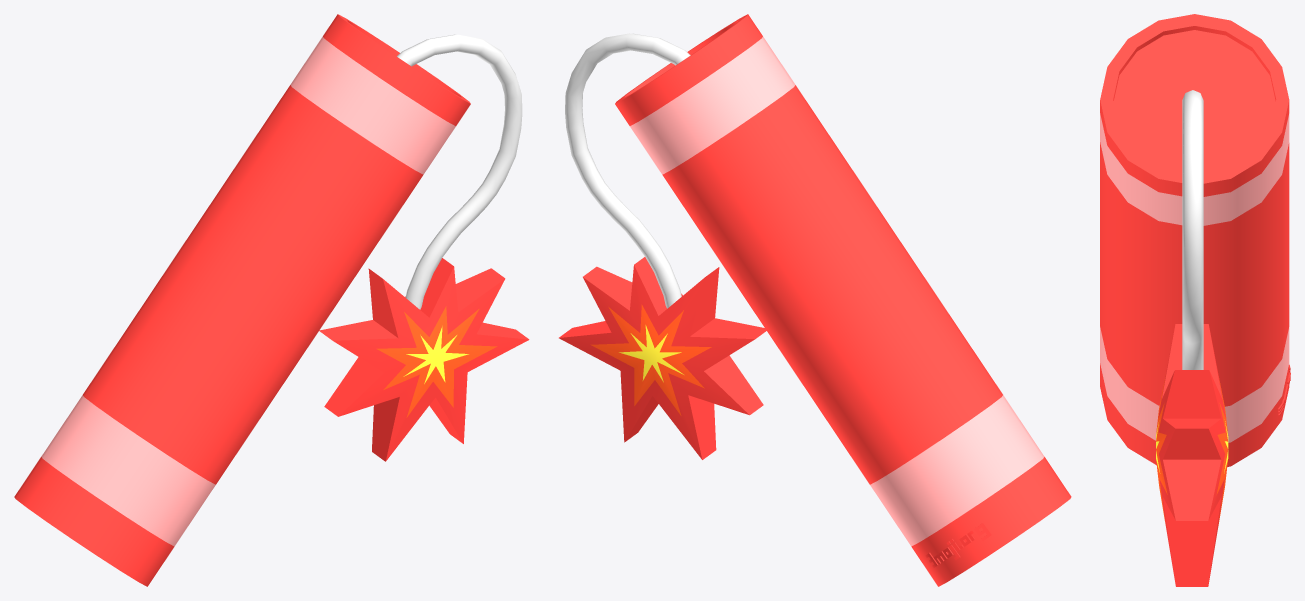
The model's file is firecracker.gltf.
3 views of the same model, side by side, from view 1: azimuth 30°, elevation 25°; view 2: azimuth 150°, elevation 25°; view 3: azimuth 270°, elevation 25° (orthographic). The views are drawn at different scales.
Parts seen in each view (by area): view 1: Cylinder.466; view 2: Cylinder.466; view 3: Cylinder.466.
Boxes of the visible parts, x1,y1,x2,y2 form: Cylinder.466: (14,14,529,586); Cylinder.466: (559,14,1071,586); Cylinder.466: (1100,14,1290,586).
Bounding box in the file's own units: 2.31 × 2.22 × 0.6607.
1 material, 1 textured.
